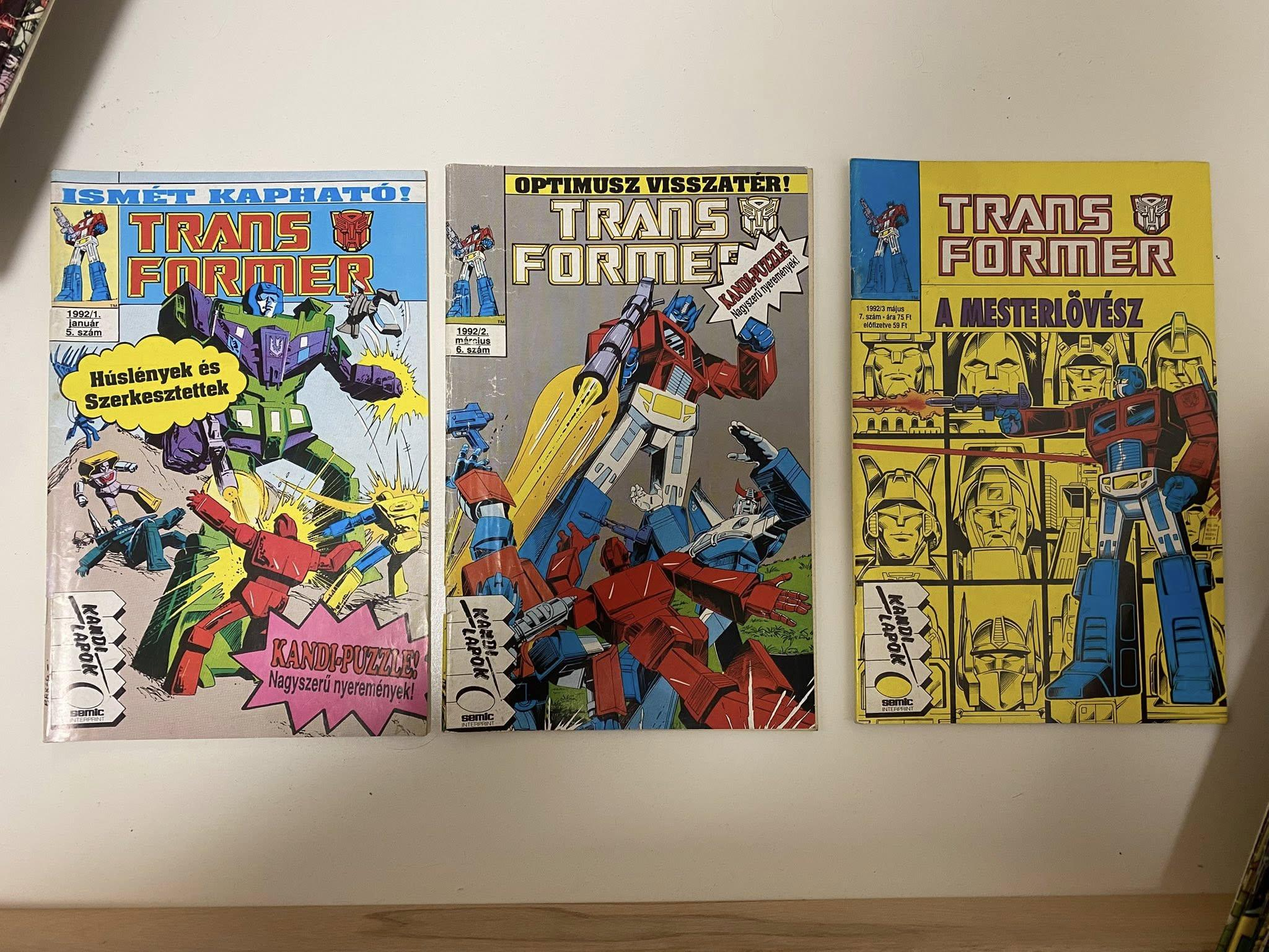comic: (846, 152, 1226, 729), (44, 172, 428, 739), (440, 164, 814, 730)
